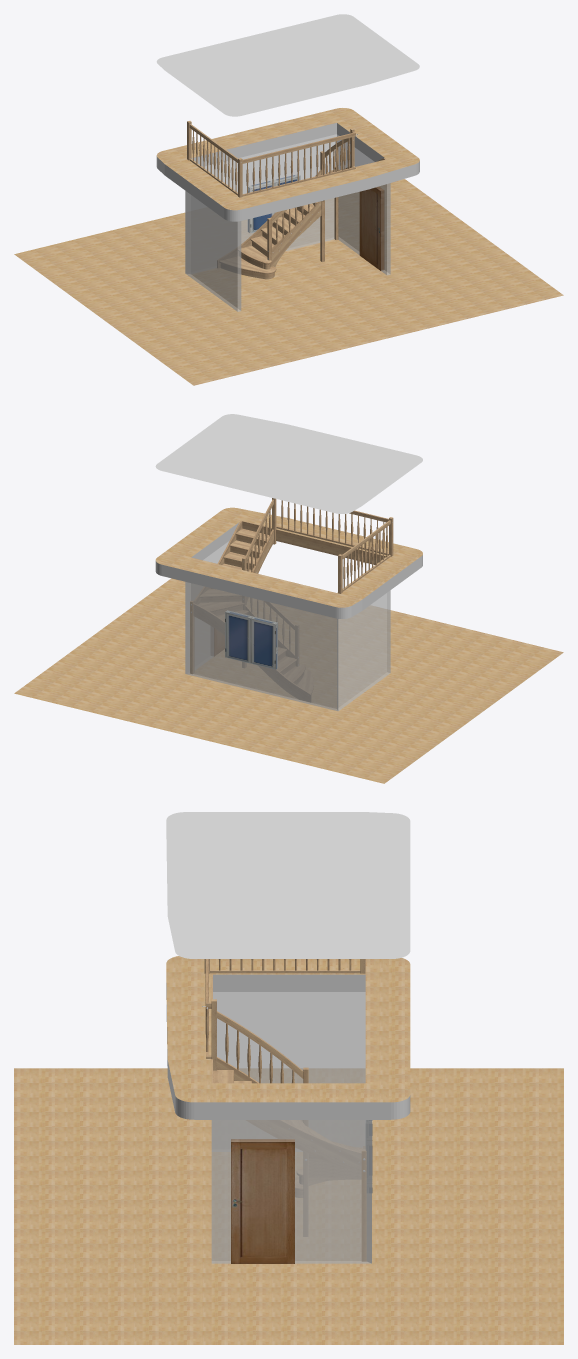
The model's file is Yli-Pskov.dae.
The picture shows the model from 3 angles, top to bottom: view 1: azimuth 30°, elevation 25°; view 2: azimuth 150°, elevation 25°; view 3: azimuth 270°, elevation 25°; orthographic projection. The views are drawn at different scales.
Parts seen in each view (by area): view 1: StairCon (×10); view 2: StairCon (×9); view 3: StairCon (×10).
Boxes of the visible parts, x1=… form: StairCon (×10): x1=14, y1=14, x2=563, y2=385; StairCon (×9): x1=14, y1=414, x2=563, y2=783; StairCon (×10): x1=14, y1=812, x2=563, y2=1344.
Bounding box in the file's own units: 10.22 × 8.59 × 5.53.
18 materials, 12 textured.
